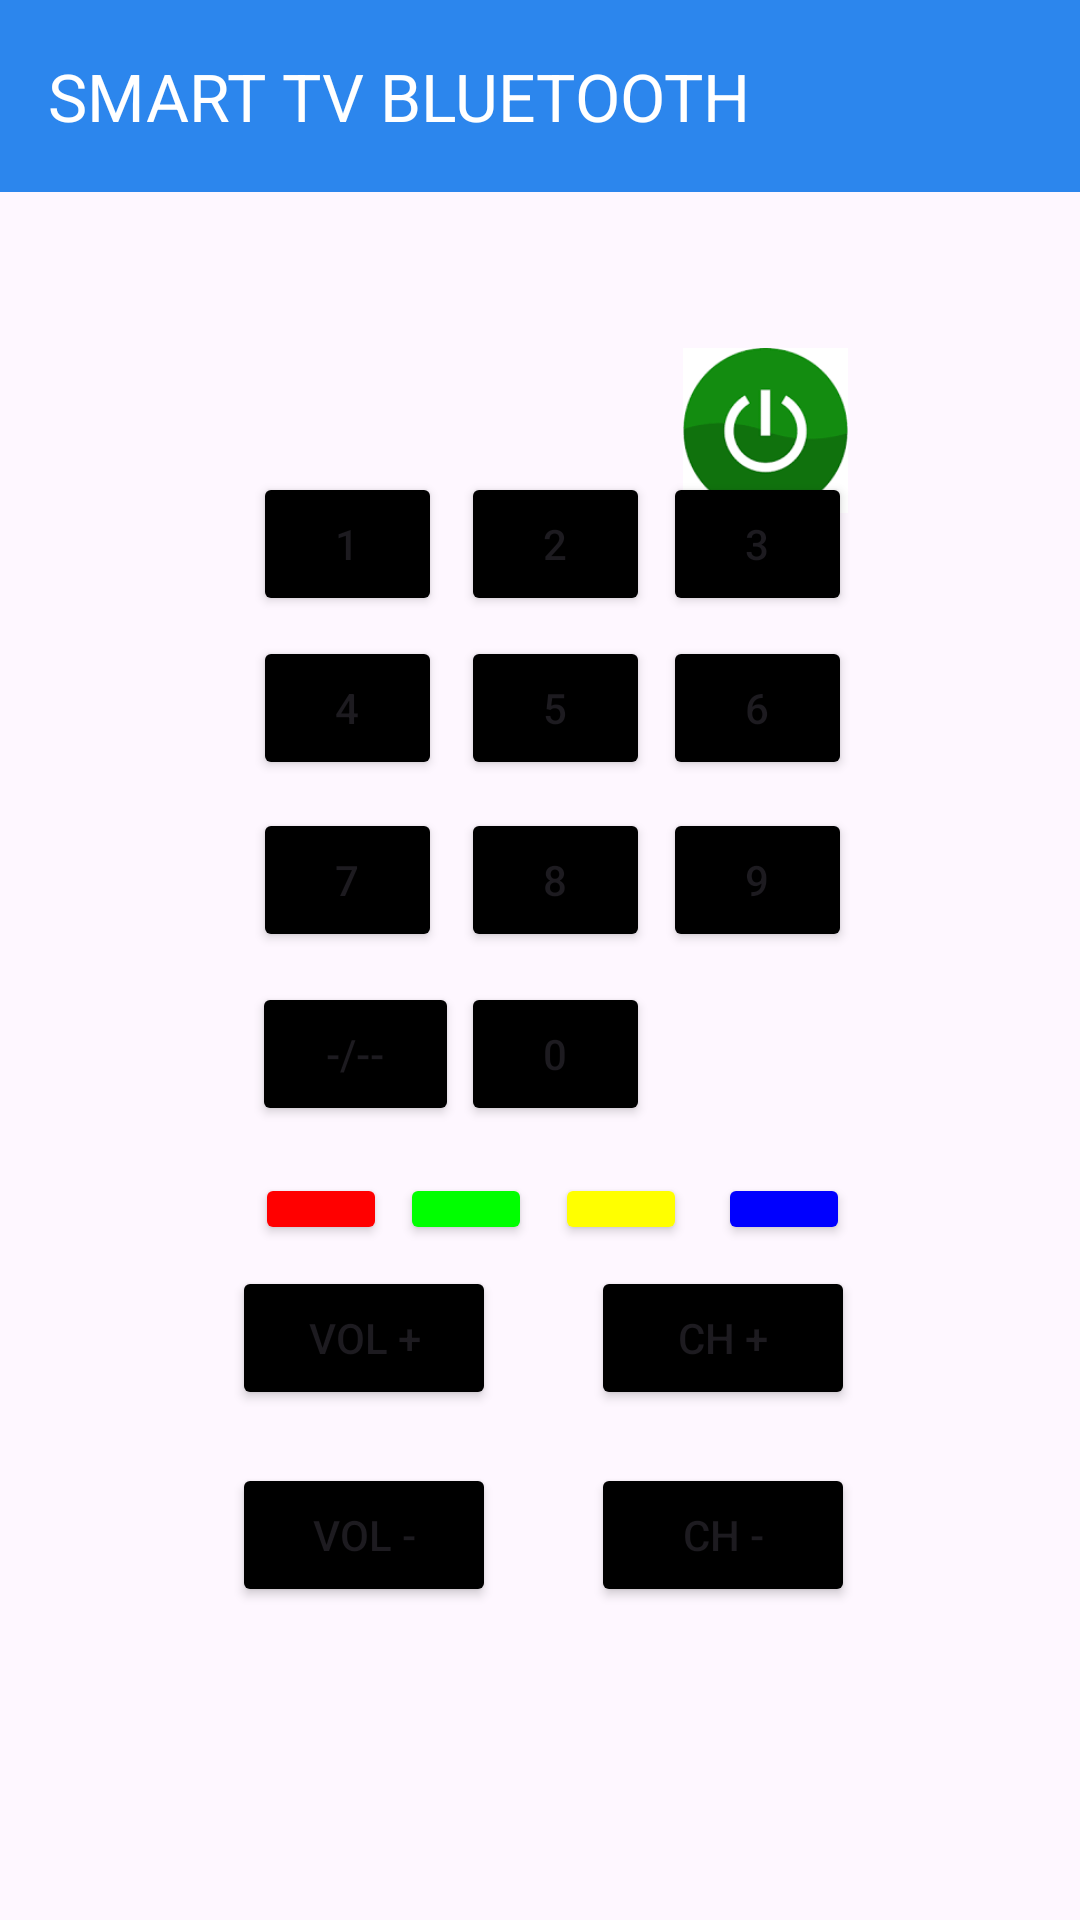

Icon bounding boxes for this 1080*1920 phone screenshot, format (left=x1, top=y1, right=x2, bottom=y2):
Bouton power: (left=680, top=348, right=848, bottom=513)
